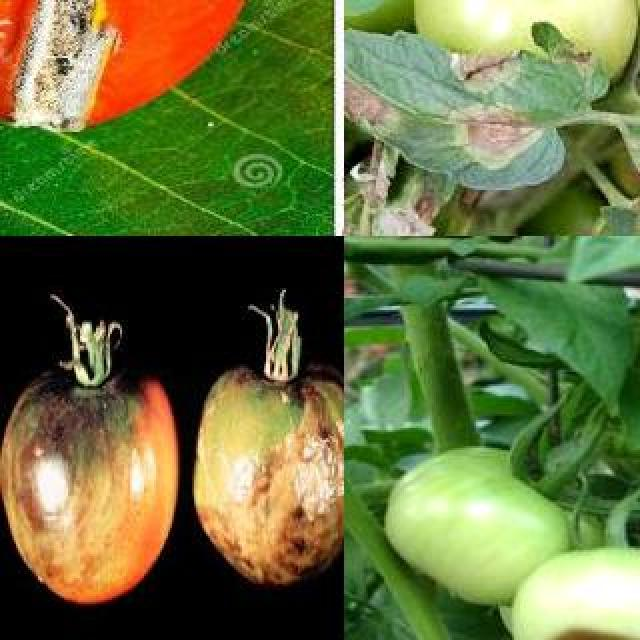Rotten_Tomato: (0, 304, 186, 604), (0, 0, 270, 164), (190, 308, 344, 590), (510, 546, 640, 640)
